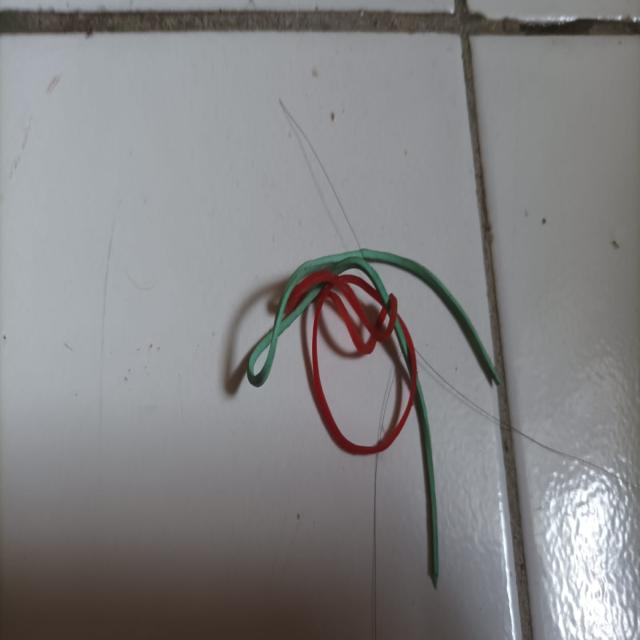Organik: (226, 219, 526, 603)
